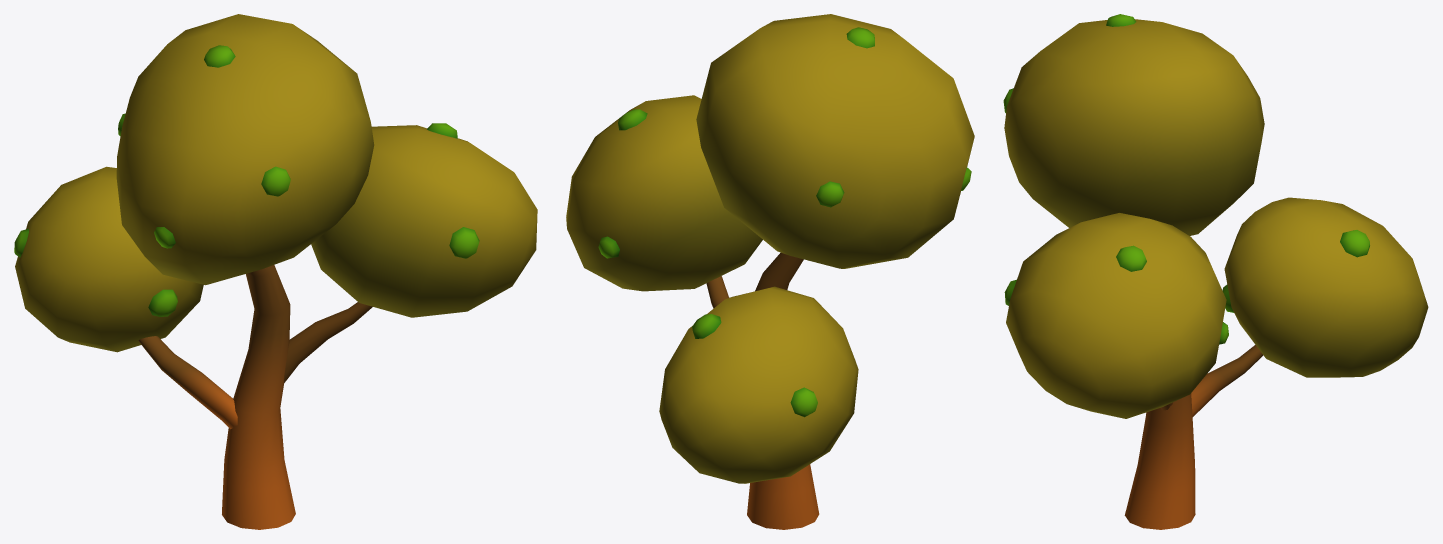
The model's file is Tree04.fbx.
3 renders of one model, left to right at view 1: azimuth 30°, elevation 25°; view 2: azimuth 150°, elevation 25°; view 3: azimuth 270°, elevation 25°, orthographic. The views are drawn at different scales.
Visible parts, largest first — view 1: LOD0; view 2: LOD0; view 3: LOD0.
Boxes of the visible parts, <box> form: LOD0: <box>14,14,537,529</box>; LOD0: <box>566,14,974,529</box>; LOD0: <box>1003,14,1428,529</box>.
Size of what is drawn, in the model's own units: 330 by 328 by 402.
